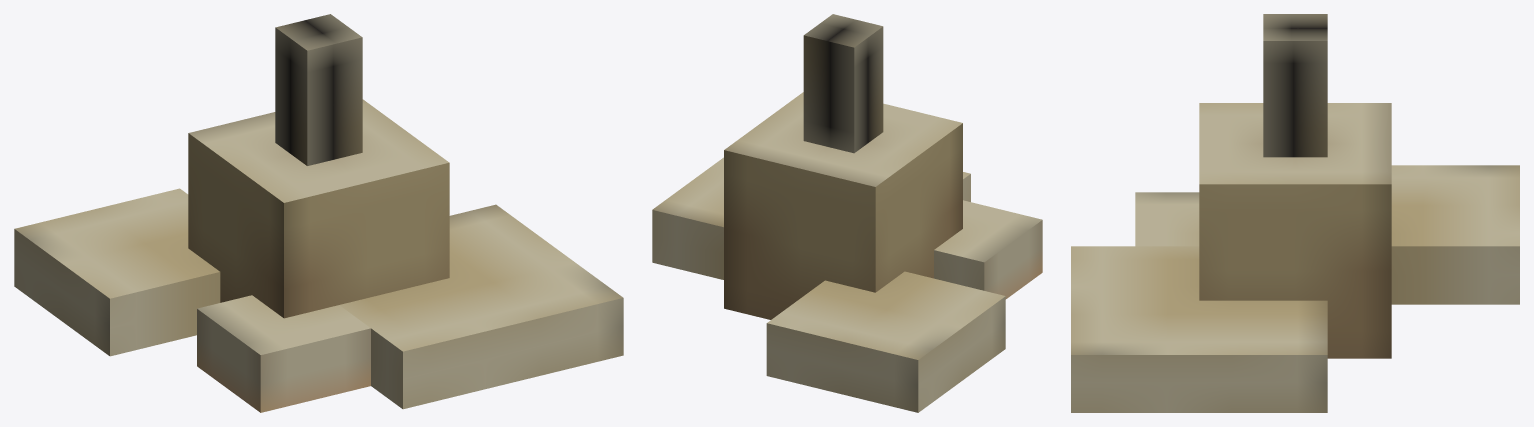
Rendered from candle_arrangement_07.fbx.
The picture shows the model from 3 angles, left to right: view 1: azimuth 30°, elevation 25°; view 2: azimuth 150°, elevation 25°; view 3: azimuth 270°, elevation 25°; orthographic projection. The views are drawn at different scales.
Parts seen in each view (by area): view 1: candle_arrangement_07; view 2: candle_arrangement_07; view 3: candle_arrangement_07.
Part boxes in pixels (box(x1,y1,x2,y2)): candle_arrangement_07: box(14, 14, 623, 412); candle_arrangement_07: box(652, 14, 1042, 412); candle_arrangement_07: box(1071, 14, 1519, 412).
Bounding box in the file's own units: 7 × 5 × 7.
